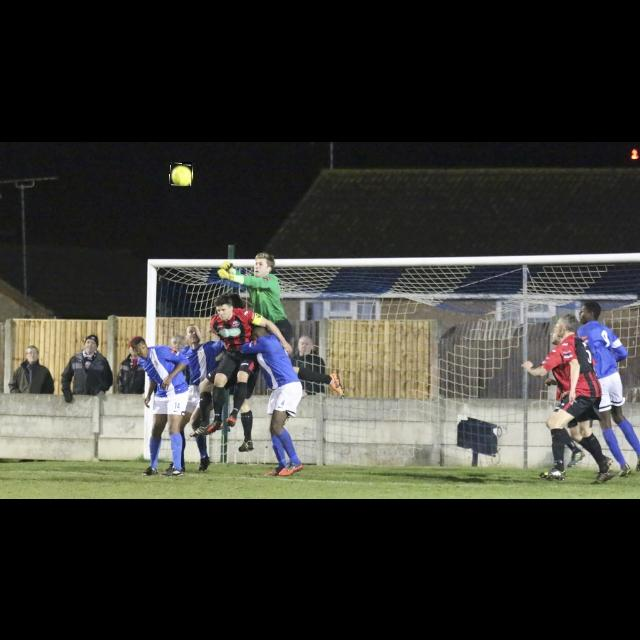Football: (170, 162, 192, 186)
